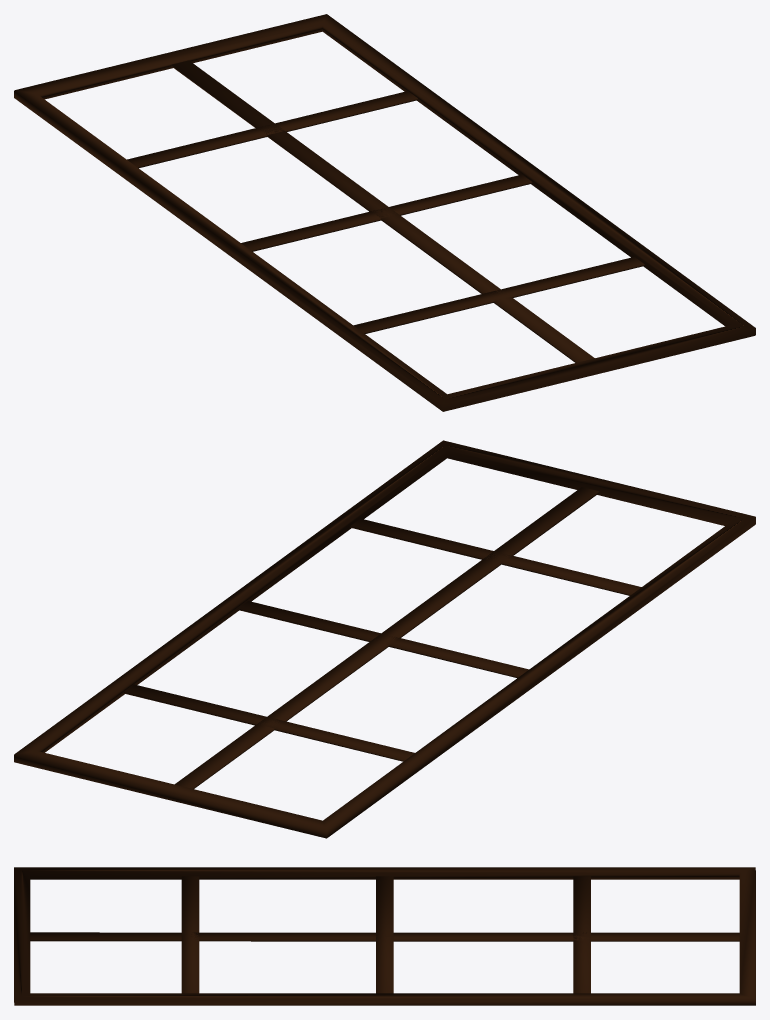
The model's file is fenetre.fbx.
3 renders of one model, top to bottom at view 1: azimuth 30°, elevation 25°; view 2: azimuth 150°, elevation 25°; view 3: azimuth 270°, elevation 25°, orthographic. The views are drawn at different scales.
Parts seen in each view (by area): view 1: fenetre; view 2: fenetre; view 3: fenetre.
Part boxes in pixels (bbox=[...]): fenetre: bbox=[14, 14, 755, 411]; fenetre: bbox=[14, 440, 755, 838]; fenetre: bbox=[14, 867, 755, 1005].
Bounding box in the file's own units: 2 × 0.0471 × 4.75.
